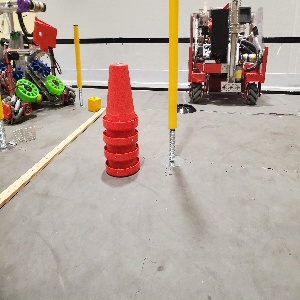Red_4: (102, 62, 140, 178)
